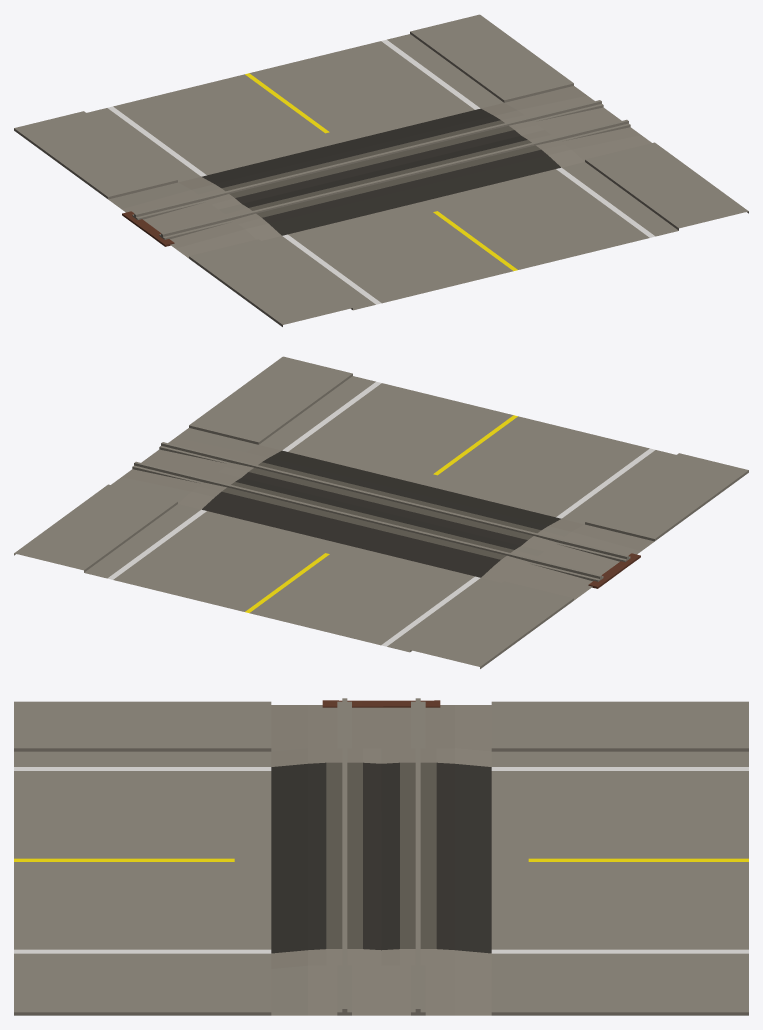
The model's file is Railroad_Crossing.fbx.
3 renders of one model, top to bottom at view 1: azimuth 30°, elevation 25°; view 2: azimuth 150°, elevation 25°; view 3: azimuth 270°, elevation 25°, orthographic. The views are drawn at different scales.
Parts seen in each view (by area): view 1: Crossing; view 2: Crossing; view 3: Crossing.
Boxes of the visible parts, x1=… form: Crossing: x1=14, y1=14, x2=748, y2=326; Crossing: x1=14, y1=356, x2=748, y2=668; Crossing: x1=14, y1=698, x2=748, y2=1015.
Size of the model in its own units: 20.21 by 0.245 by 20.
